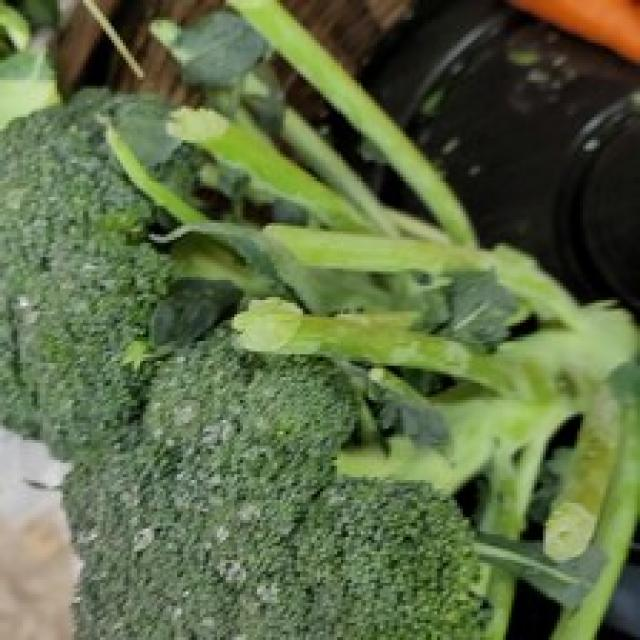Broccoli: (65, 329, 485, 640), (66, 330, 484, 640), (0, 91, 170, 458), (0, 92, 170, 458)
